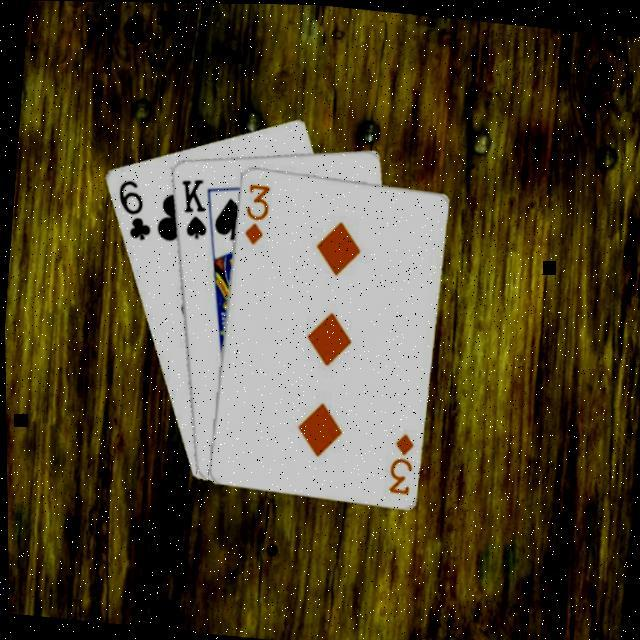3D: (238, 179, 274, 249), (382, 427, 417, 495)
6C: (110, 176, 158, 244)
KS: (172, 173, 213, 242)
